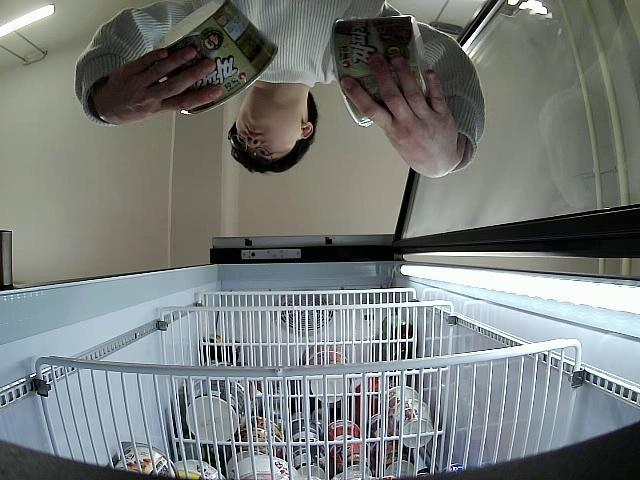03_chapagetti_L: (154, 0, 278, 116), (330, 15, 432, 128)
